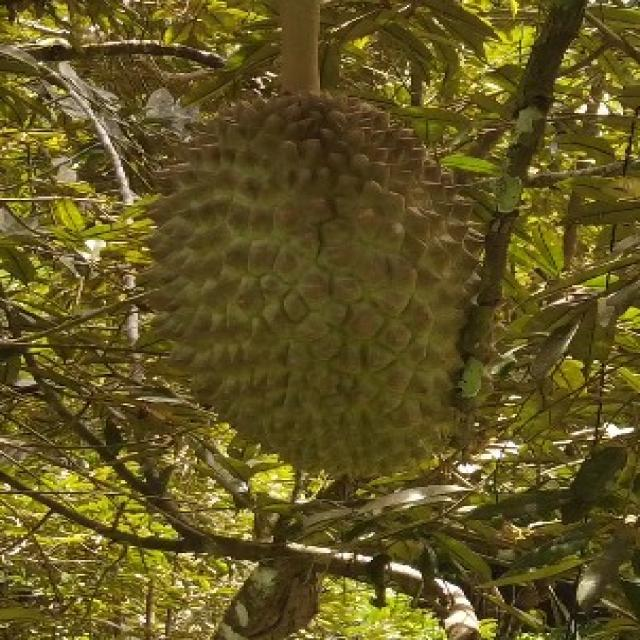mature: (137, 72, 490, 476)
